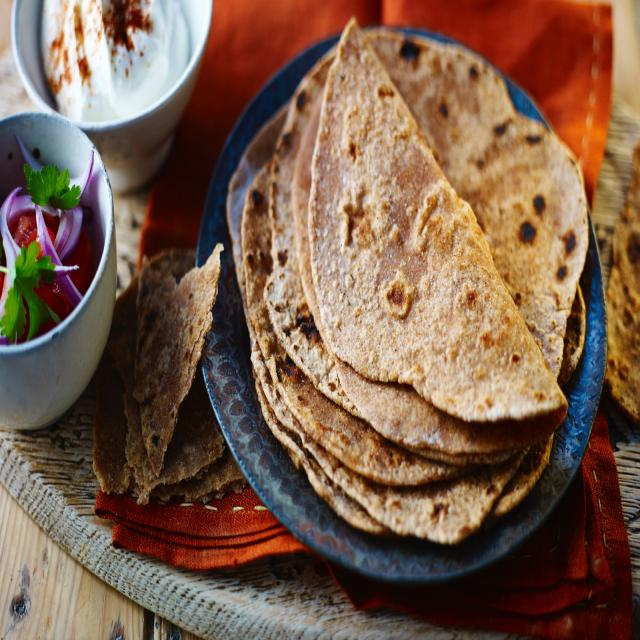chapati: (250, 15, 580, 554)
